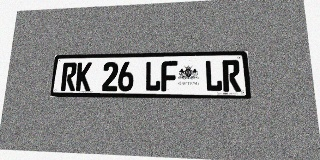2: (102, 62, 118, 91)
6: (118, 61, 134, 91)
F: (161, 61, 178, 91)
K: (75, 62, 92, 91)
L: (205, 60, 223, 92), (144, 61, 161, 91)
R: (222, 60, 241, 92), (61, 62, 77, 91)
